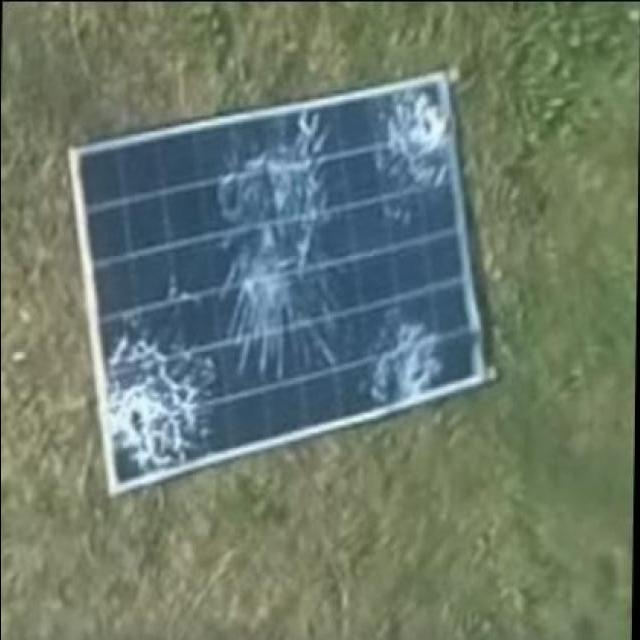cracked: (61, 70, 498, 508)
